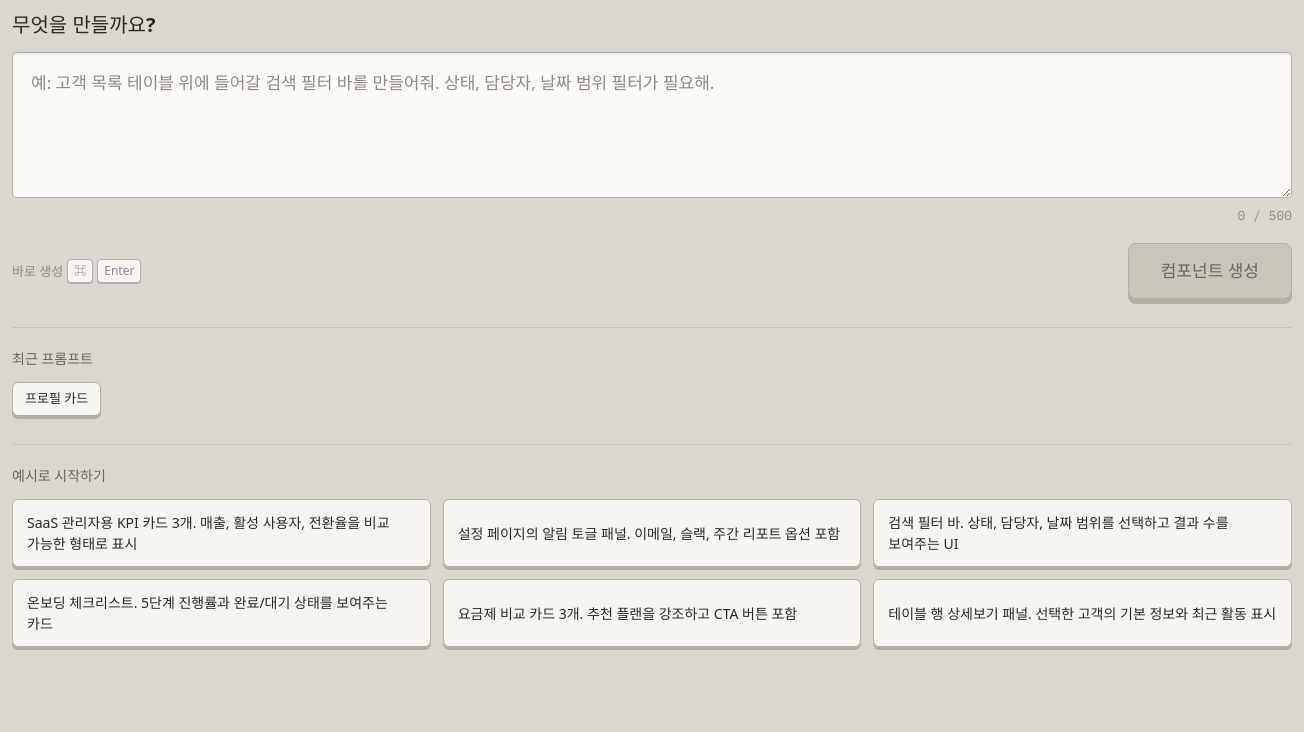
Scenario: PromptInput › 최근 프롬프트를 누르면 입력창에 채워진다
This screenshot has width=1304, height=732.
What coordinates should you click on to do the following:
click the button "프로필 카드"
I would click on:
 (57, 399)
Its box is x1=12 y1=382 x2=101 y2=416.
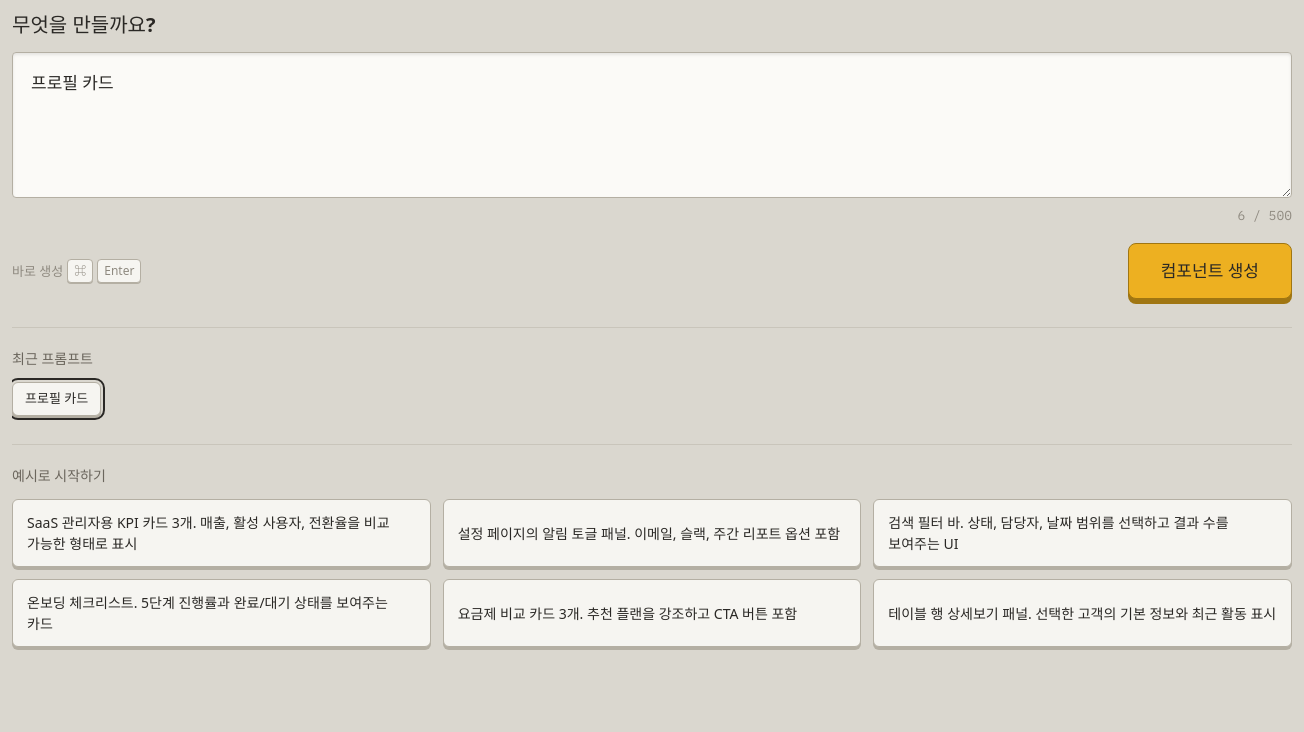
Expected: the text box holds "프로필 카드", x1=12 y1=52 x2=1292 y2=198
